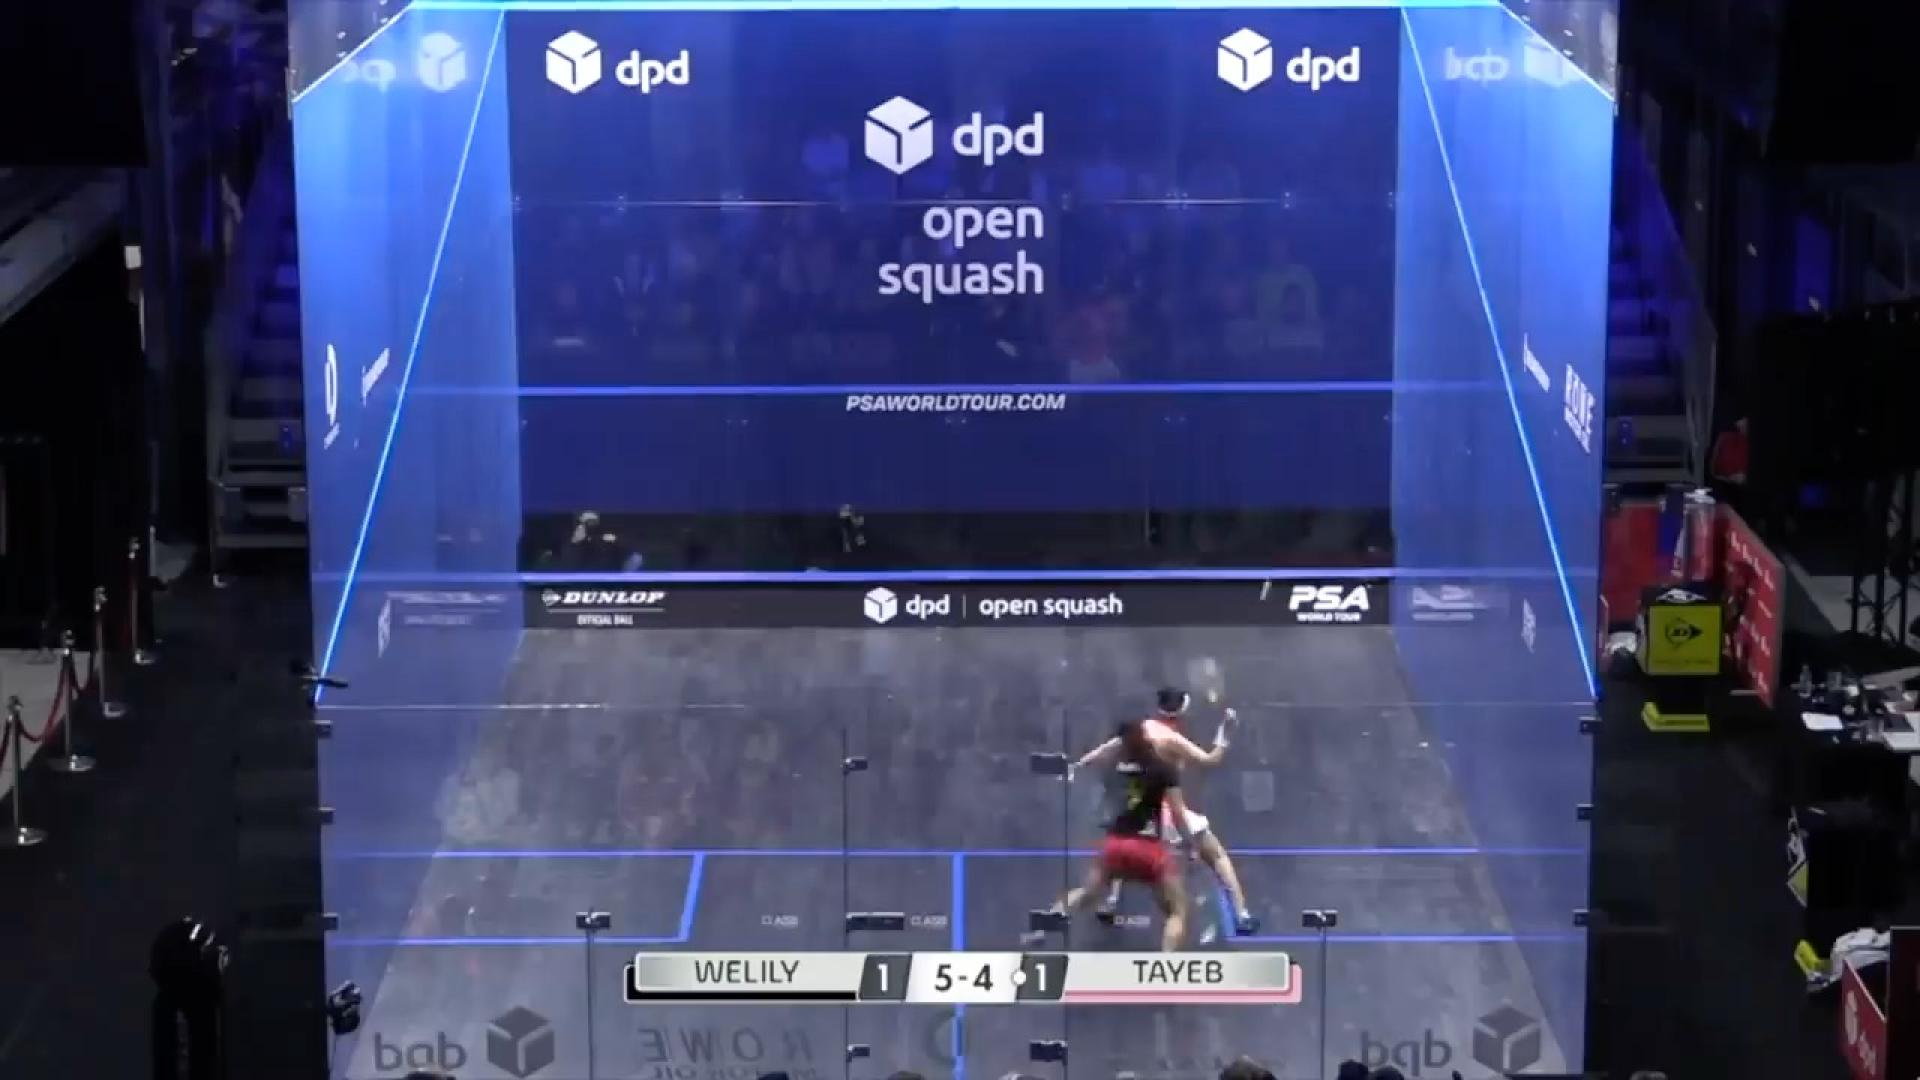Squash-Ball: (1247, 570, 1290, 620)
